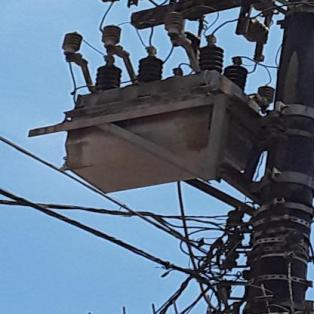Poste: (223, 0, 313, 311)
